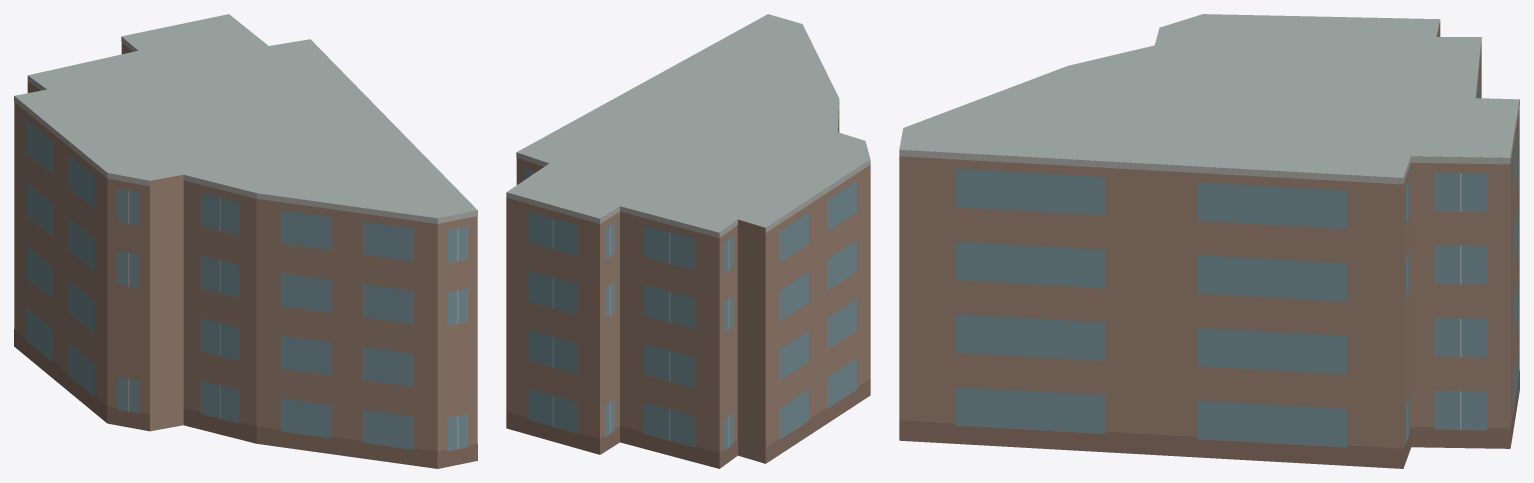
Rendered from survey-upis-32995651.glb.
3 renders of one model, left to right at view 1: azimuth 30°, elevation 25°; view 2: azimuth 150°, elevation 25°; view 3: azimuth 270°, elevation 25°, orthographic. The views are drawn at different scales.
Parts seen in each view (by area): view 1: survey-upis-32995651.tmp; view 2: survey-upis-32995651.tmp; view 3: survey-upis-32995651.tmp.
Part boxes in pixels (<box>): survey-upis-32995651.tmp: <box>14,14,477,468</box>; survey-upis-32995651.tmp: <box>506,14,870,468</box>; survey-upis-32995651.tmp: <box>899,14,1519,468</box>.
Size of the model in its own units: 13.13 by 10.85 by 20.98.
